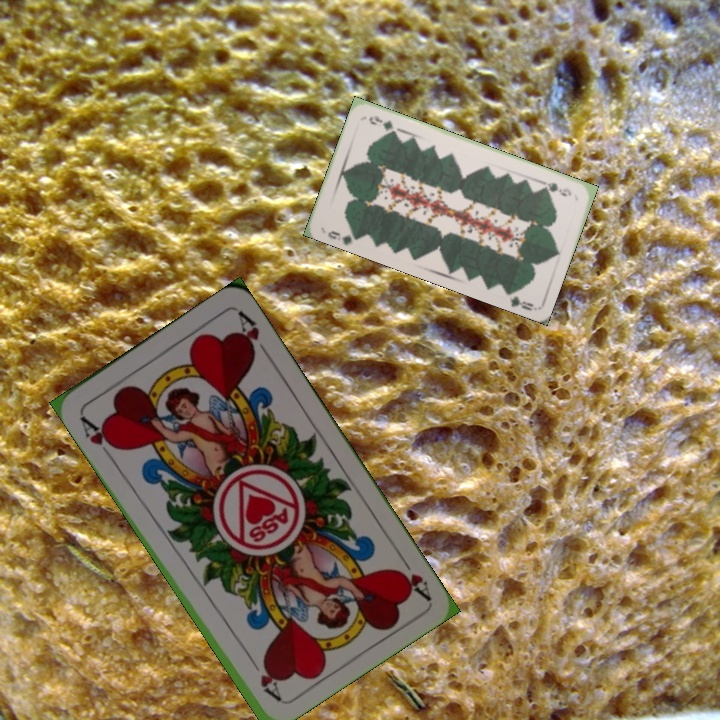G9: (324, 226, 361, 247), (538, 178, 574, 199)
HA: (75, 411, 121, 463), (391, 548, 433, 602)
